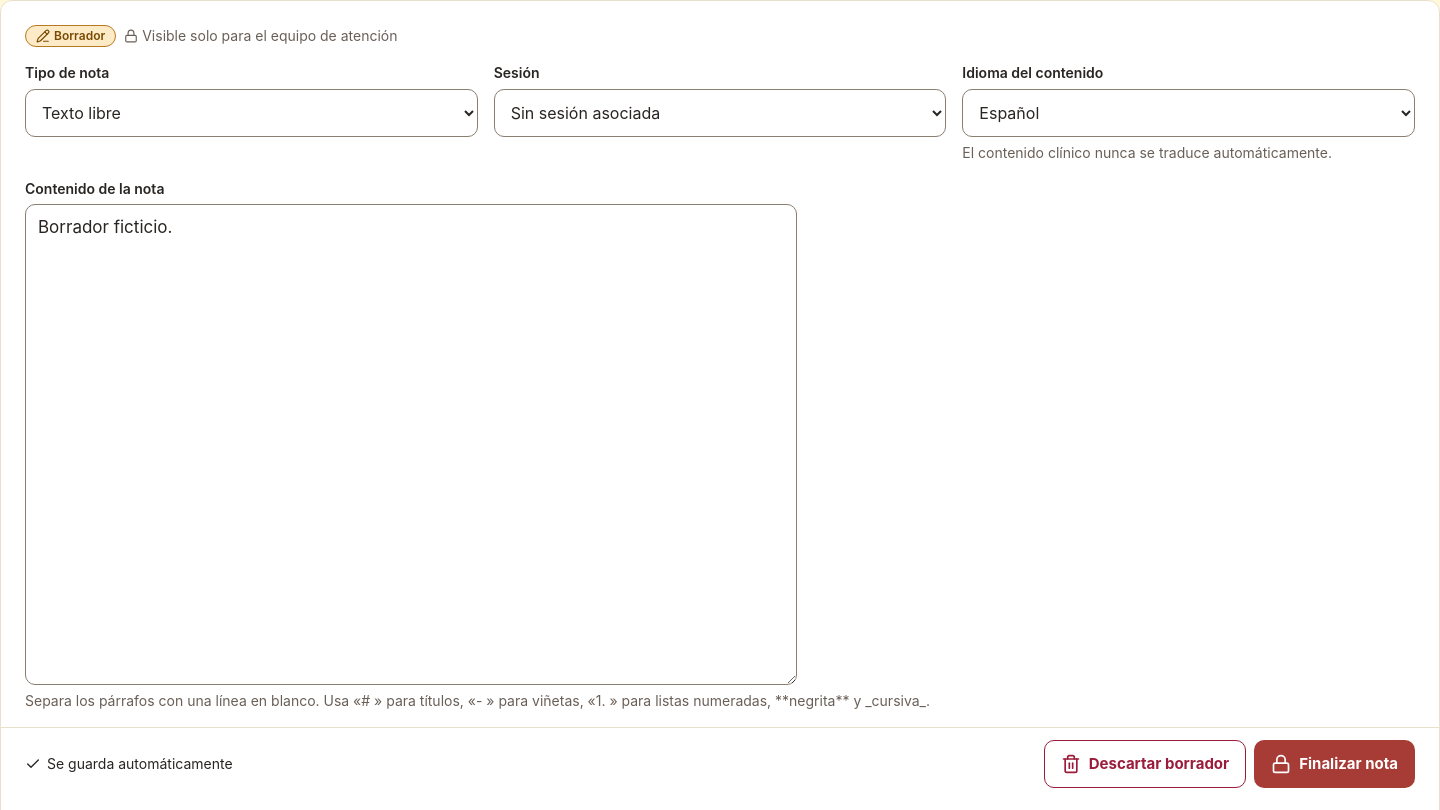
Test: NoteEditor (draft) › does not finalize when the pending save fails
The width and height of the screenshot is (1440, 810).
Replace the text in the text box labelled "Contenido de la nota" with "x". click: coordinates (411, 445)
box: [25,204,797,685]
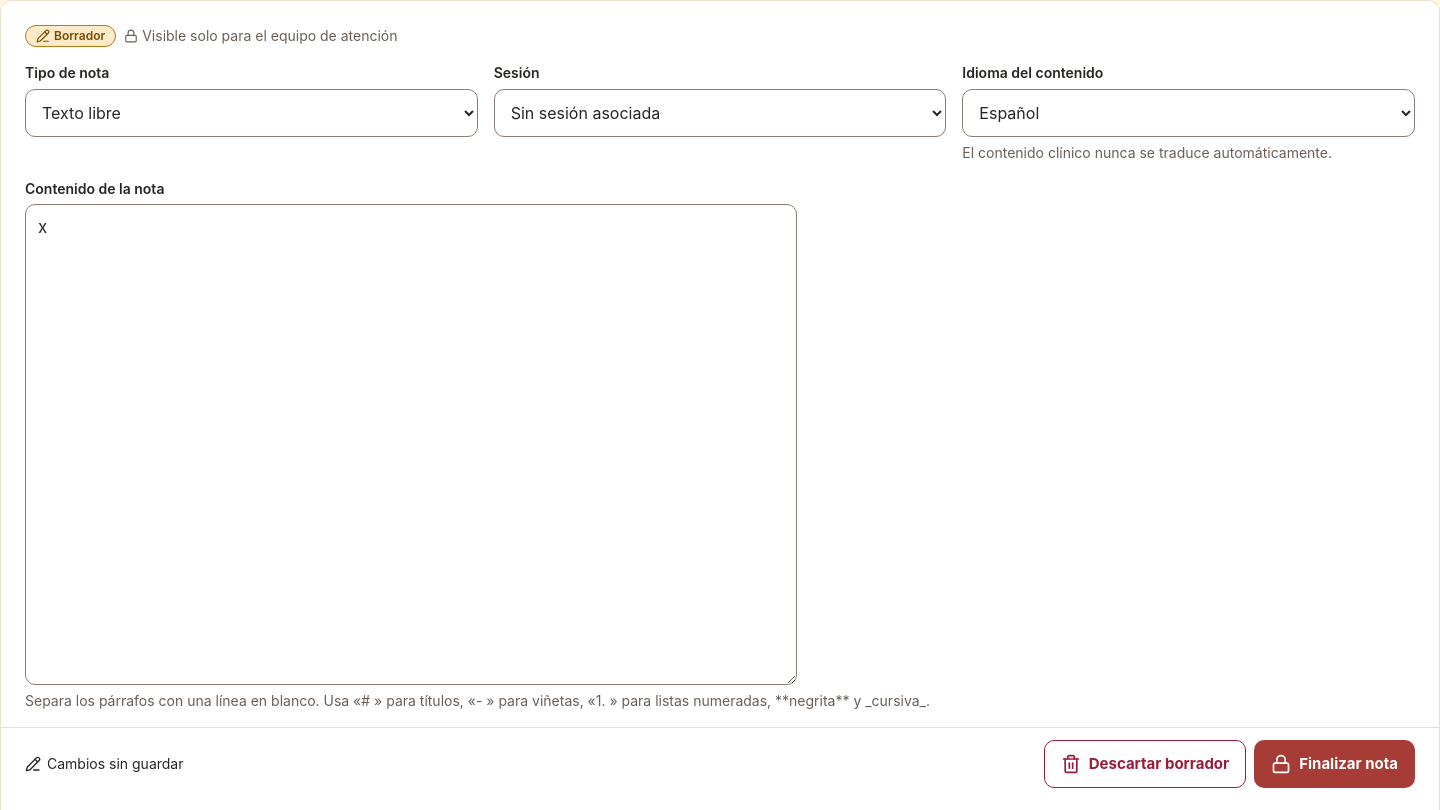
Click the button "Finalizar nota". click: coordinates (1335, 764)
box: [1254,740,1415,788]
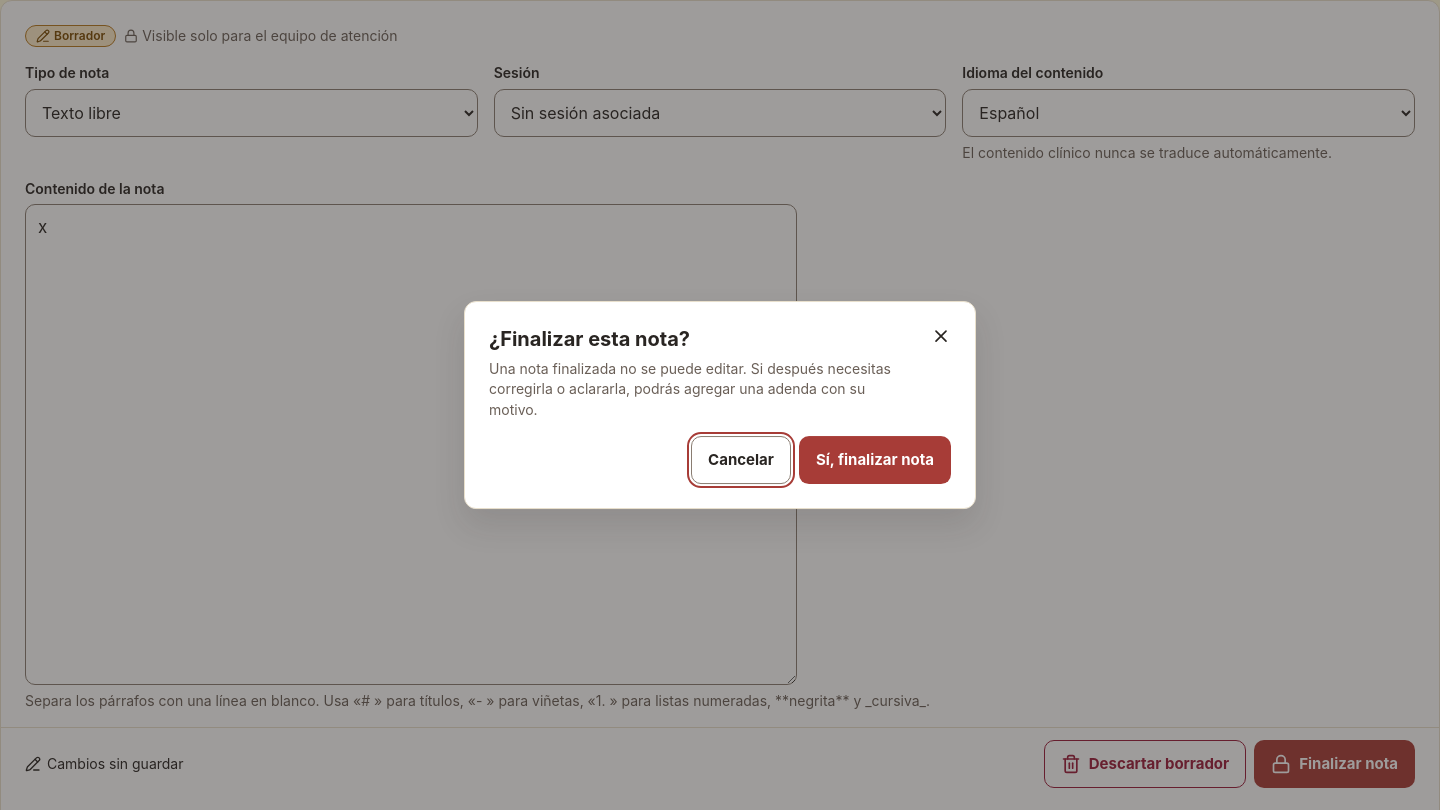
Click the button "Sí, finalizar nota". click: coordinates (875, 460)
box: [799,436,951,484]
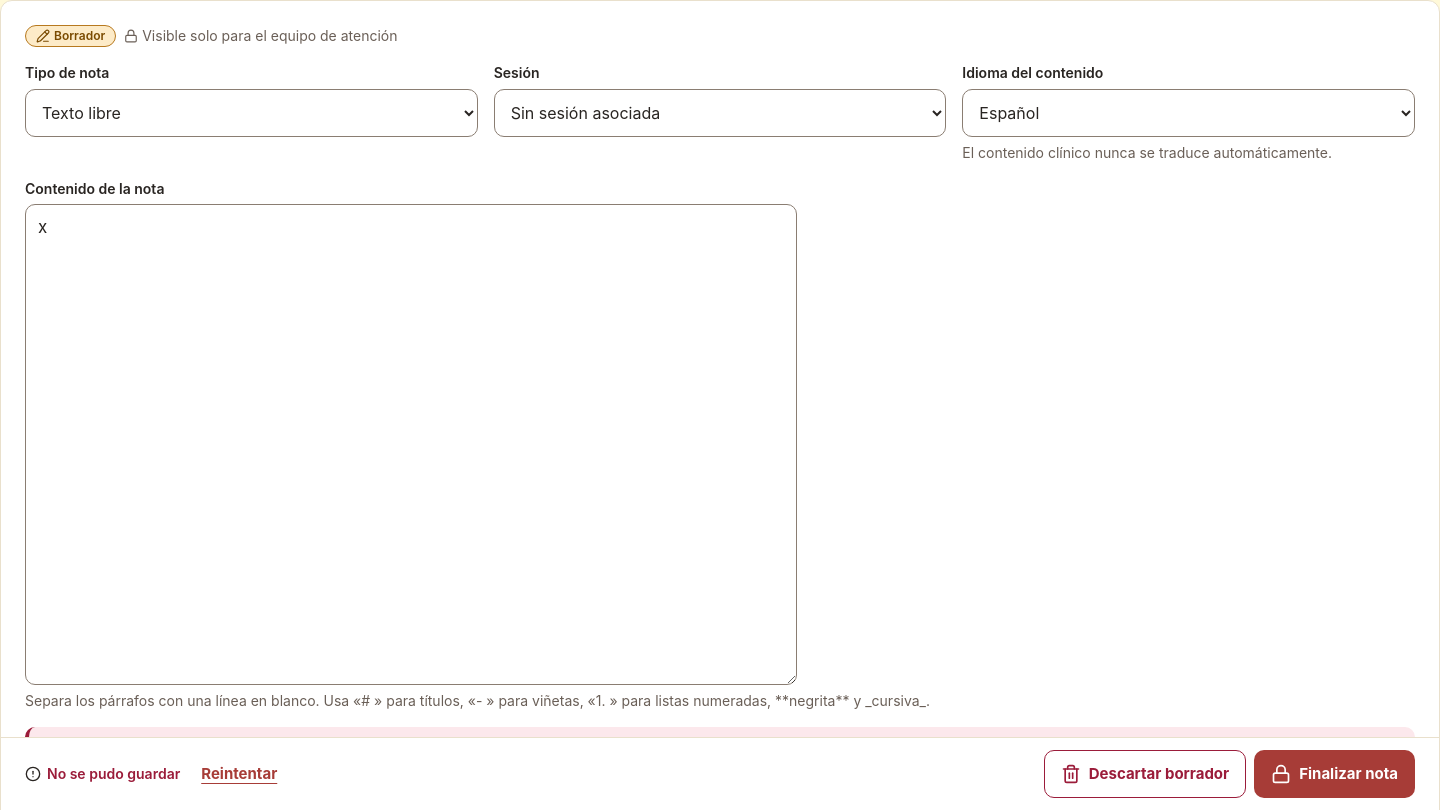
Expected: the element with test id "save-indicator" shows "No se pudo guardar", [47,765,180,782]
